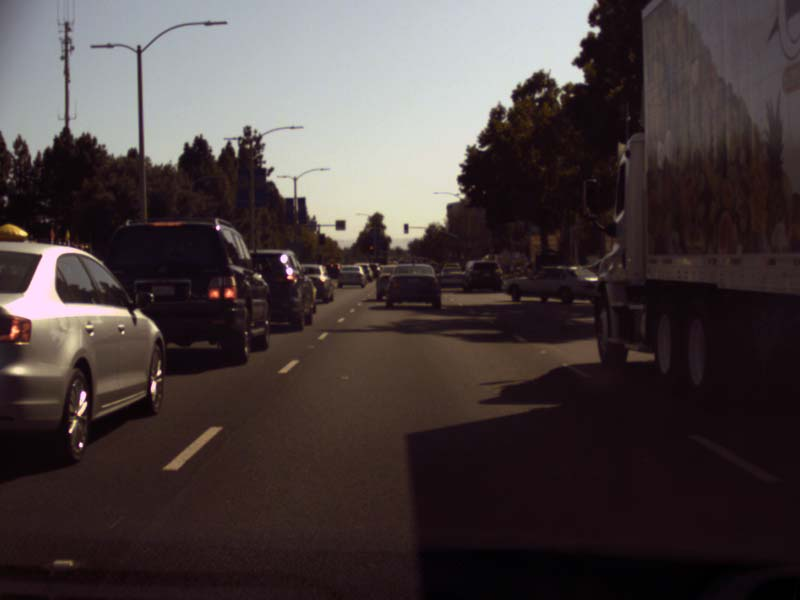Green: (490, 242, 495, 252)
Yellow: (368, 244, 373, 250)
